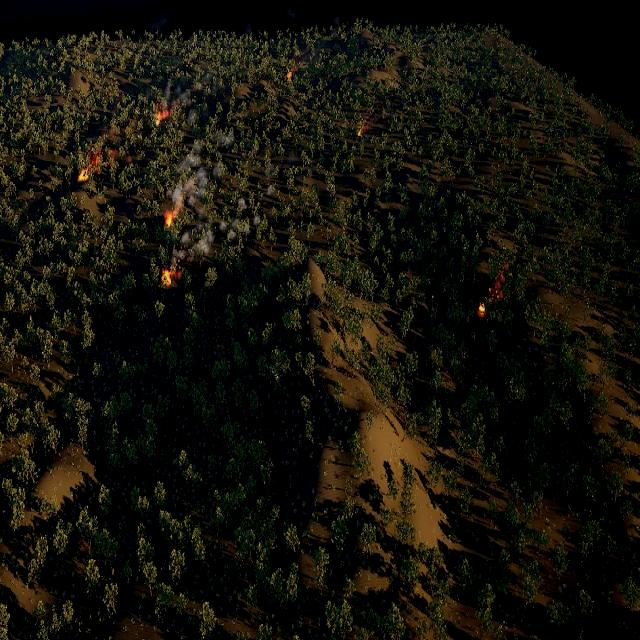fire: (162, 269, 180, 287), (157, 109, 171, 125), (164, 211, 177, 227), (479, 304, 486, 318), (78, 170, 86, 182), (357, 127, 365, 138), (287, 69, 293, 81)
smoke: (170, 145, 220, 211), (88, 125, 136, 171), (220, 196, 260, 245), (172, 227, 214, 265), (165, 80, 198, 124), (489, 270, 508, 302), (362, 109, 388, 132), (290, 48, 316, 70), (151, 10, 173, 32), (266, 162, 277, 196), (286, 1, 298, 22)
